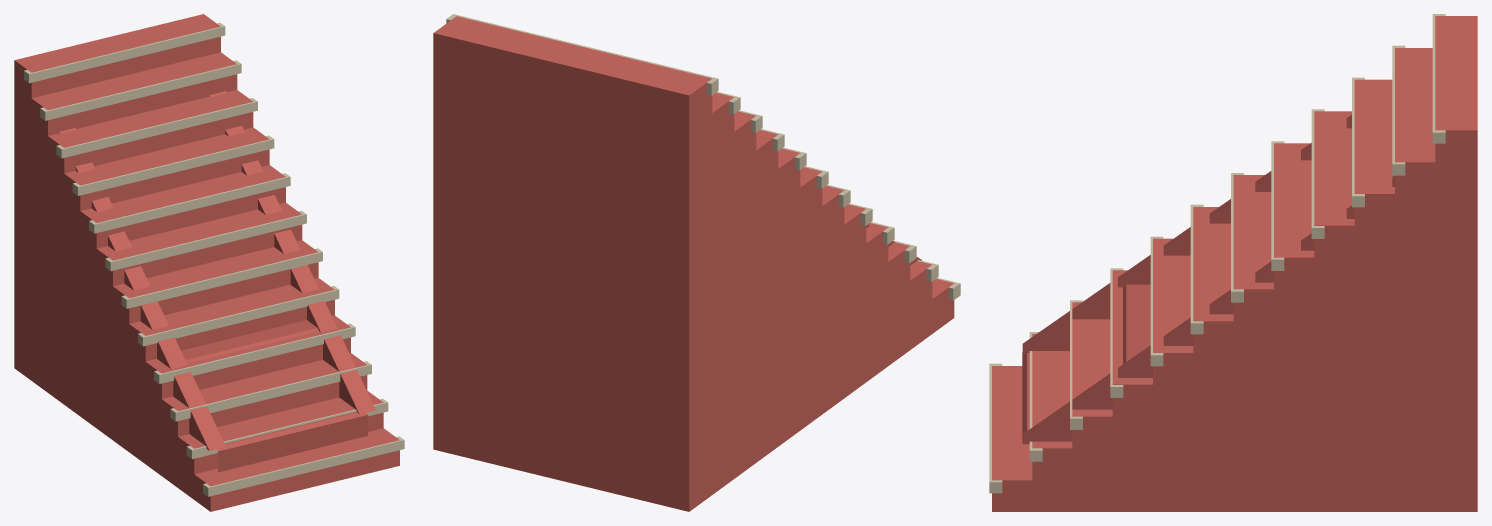
File: stairs-stone-coral.glb
3 views of the same model, side by side, from view 1: azimuth 30°, elevation 25°; view 2: azimuth 150°, elevation 25°; view 3: azimuth 270°, elevation 25° (orthographic). The views are drawn at different scales.
Parts seen in each view (by area): view 1: stairs-stone-coral; view 2: stairs-stone-coral; view 3: stairs-stone-coral.
Boxes of the visible parts, left/top/right/bottom form: stairs-stone-coral: left=14, top=14, right=404, bottom=511; stairs-stone-coral: left=433, top=14, right=960, bottom=511; stairs-stone-coral: left=989, top=14, right=1477, bottom=511.
Bounding box in the file's own units: 1.95 × 2.92 × 3.39.
